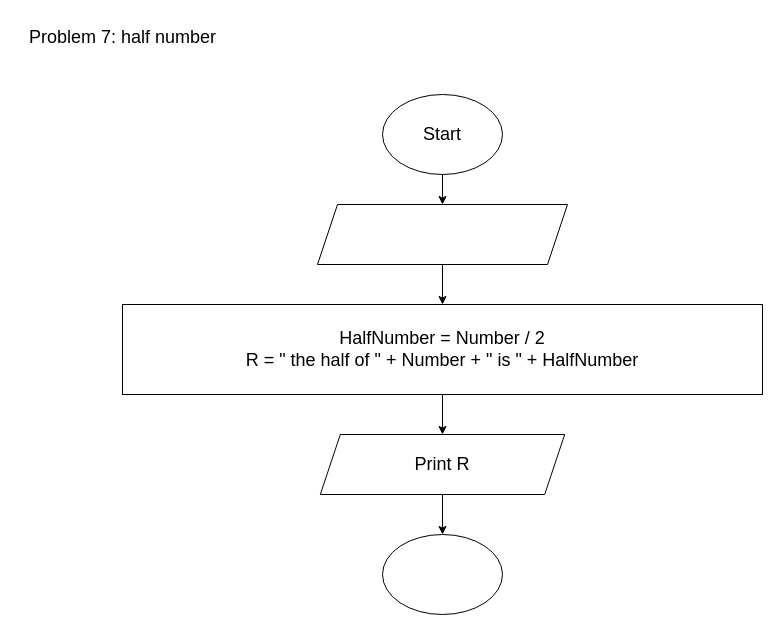
This 780x632 diagram has some shape labels left out. The centre of each missing label's shape, as x and y in pixels:
End: (x=442, y=574)
Read Number: (x=442, y=234)
